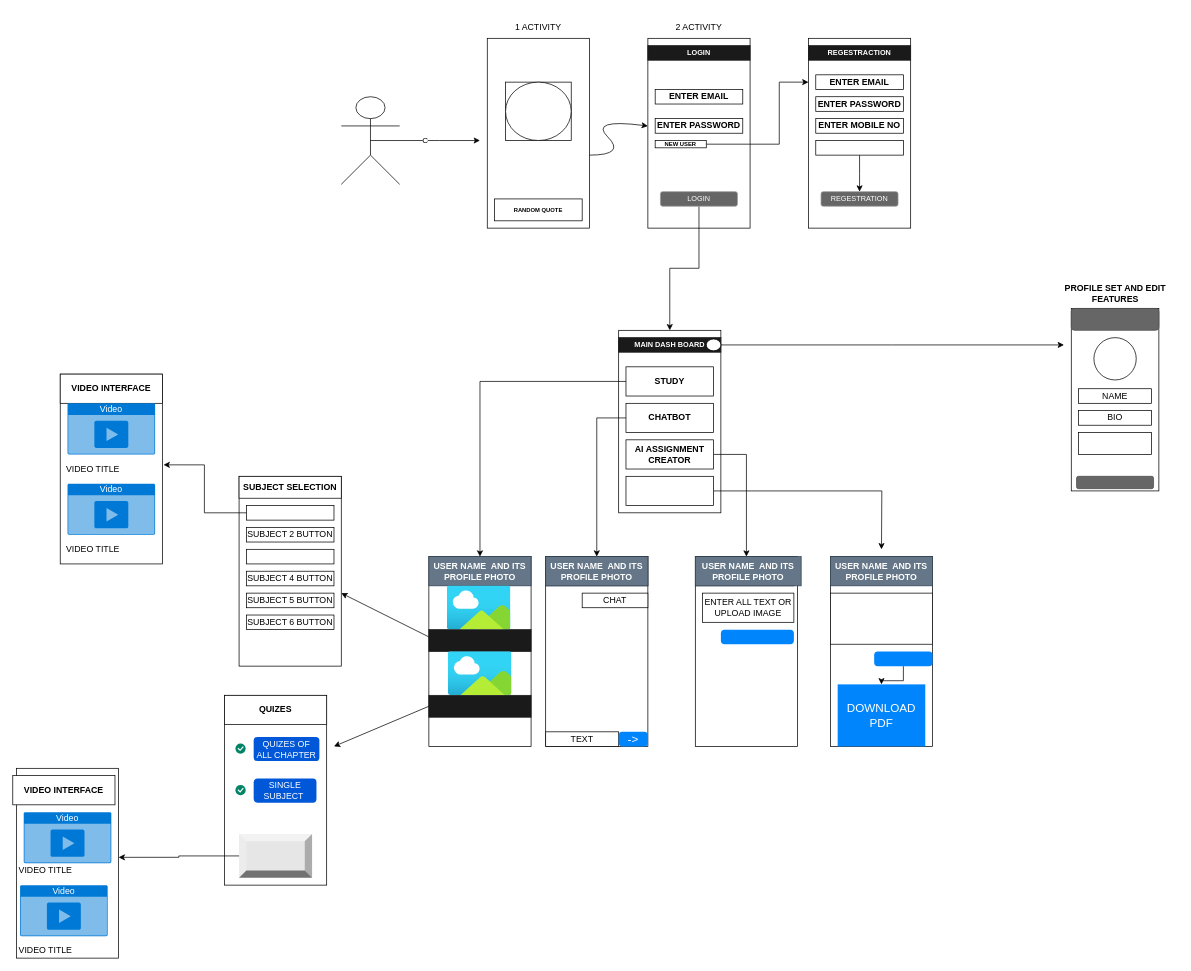
This 1191x971 diagram has some shape labels left out. The centre of each missing label's shape, as x and y in pixels:
"Actor" belongs at point (370, 140).
"AUTOMATIC RESUME MAKER" belongs at point (669, 491).
"Button" belongs at point (275, 855).
"EDIT" belongs at point (1115, 482).
"ENTER" belongs at point (903, 658).
"ENTER MULTIPLE INFORMATION FOR CREATE AN RESUME" belongs at point (881, 618).
"ENTER OTHER DETAIL" belongs at point (859, 147).
"GENERATED" belongs at point (757, 636).
"LOGO" belongs at point (538, 111).
"OTHER INFORMATION" belongs at point (1115, 443).
"PROFILE VIEW AND EDIT" belongs at point (1115, 319).
"QUIZES BUTTON" belongs at point (479, 706).
"STUDY BUTTON" belongs at point (479, 640).
"SUBJECT 1 BUTTON" belongs at point (290, 512).
"SUBJECT 3 BUTTON" belongs at point (290, 556).
